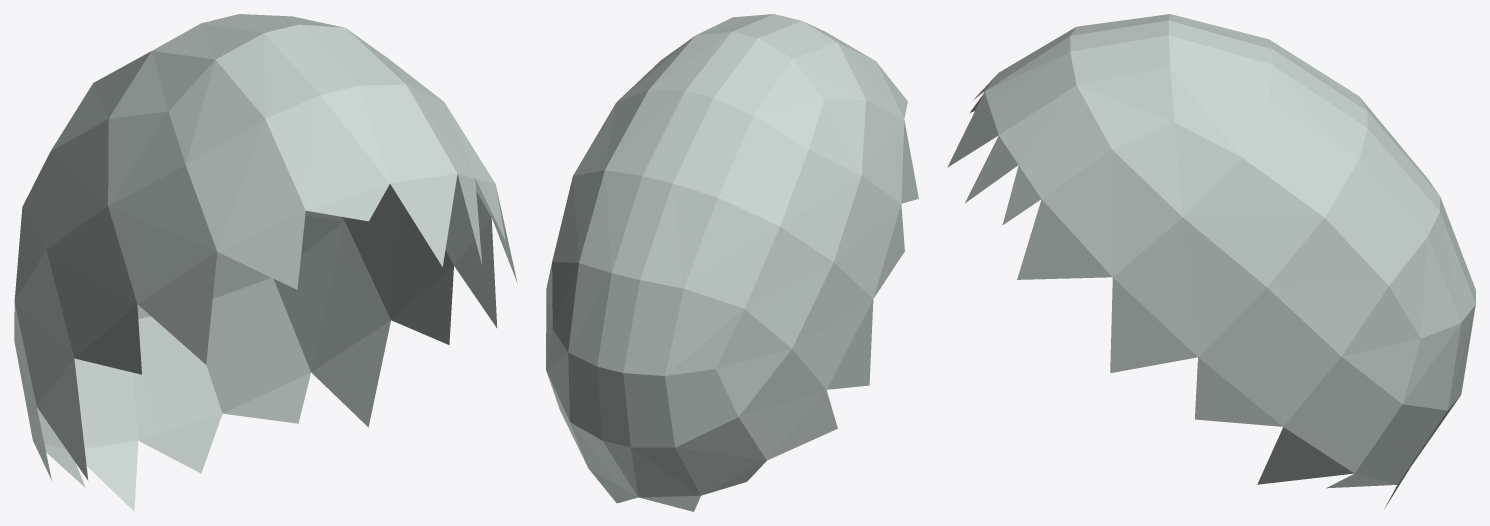
The model's file is BR_Darkrai-Shiny01.obj.
3 views of the same model, side by side, from view 1: azimuth 30°, elevation 25°; view 2: azimuth 150°, elevation 25°; view 3: azimuth 270°, elevation 25° (orthographic). The views are drawn at different scales.
Parts seen in each view (by area): view 1: darkrai; view 2: darkrai; view 3: darkrai.
Part boxes in pixels (x1,y1,x2,y2): darkrai: (14,14,517,511); darkrai: (546,14,918,511); darkrai: (947,14,1475,508).
Bounding box in the file's own units: 2.5 × 3.47 × 3.55.
1 material, 1 textured.
